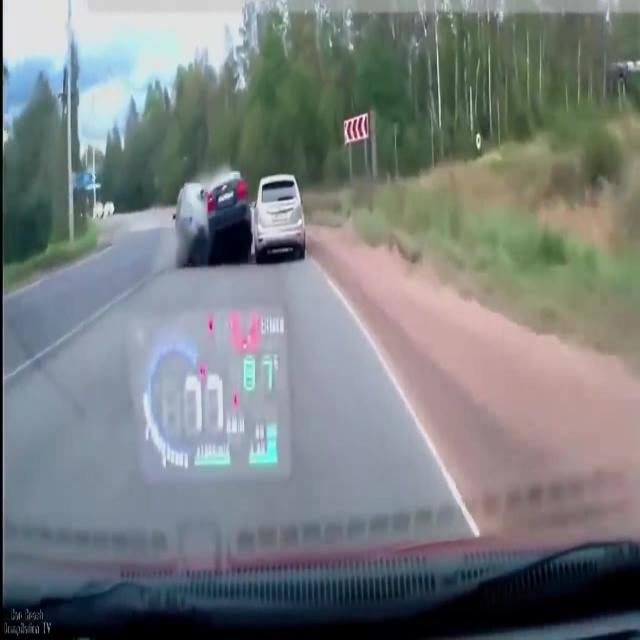accident: (168, 168, 255, 274)
